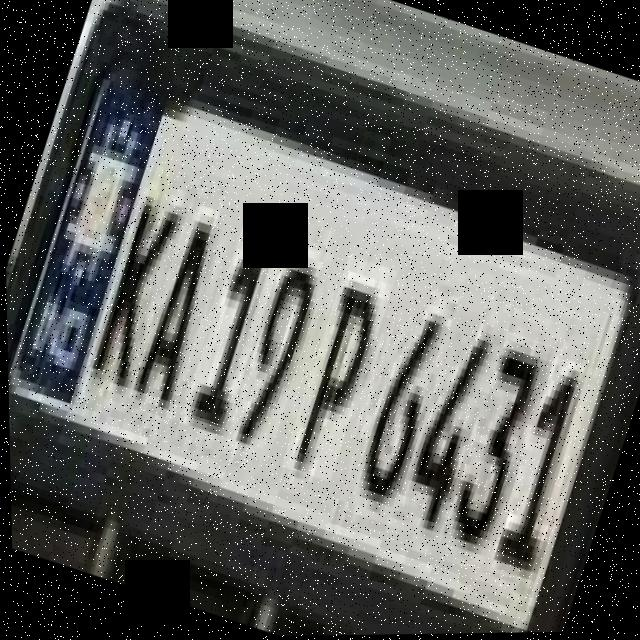1: (479, 357, 600, 587), (176, 219, 290, 430)
3: (434, 335, 554, 558)
4: (386, 310, 511, 542)
6: (339, 289, 462, 516)
9: (217, 240, 336, 463)
A: (119, 203, 235, 424)
K: (79, 190, 190, 395)
P: (275, 256, 399, 484)
